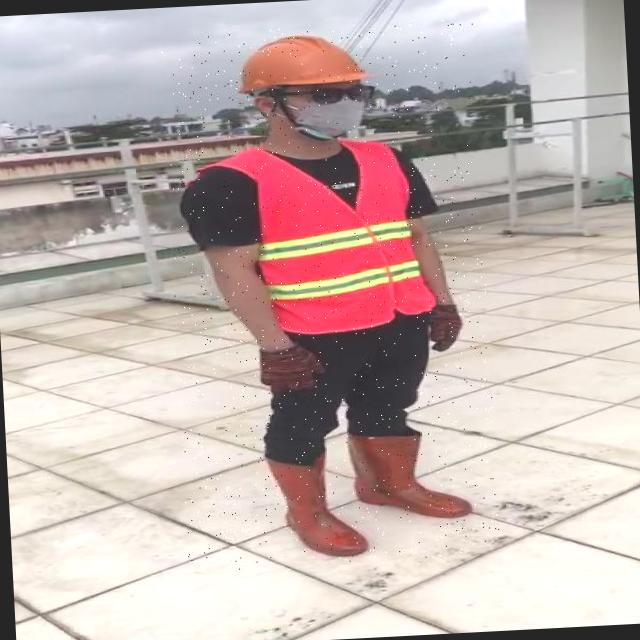boots: (345, 426, 475, 524), (264, 451, 368, 562)
helmet: (226, 24, 374, 94)
vest: (252, 137, 438, 334)
